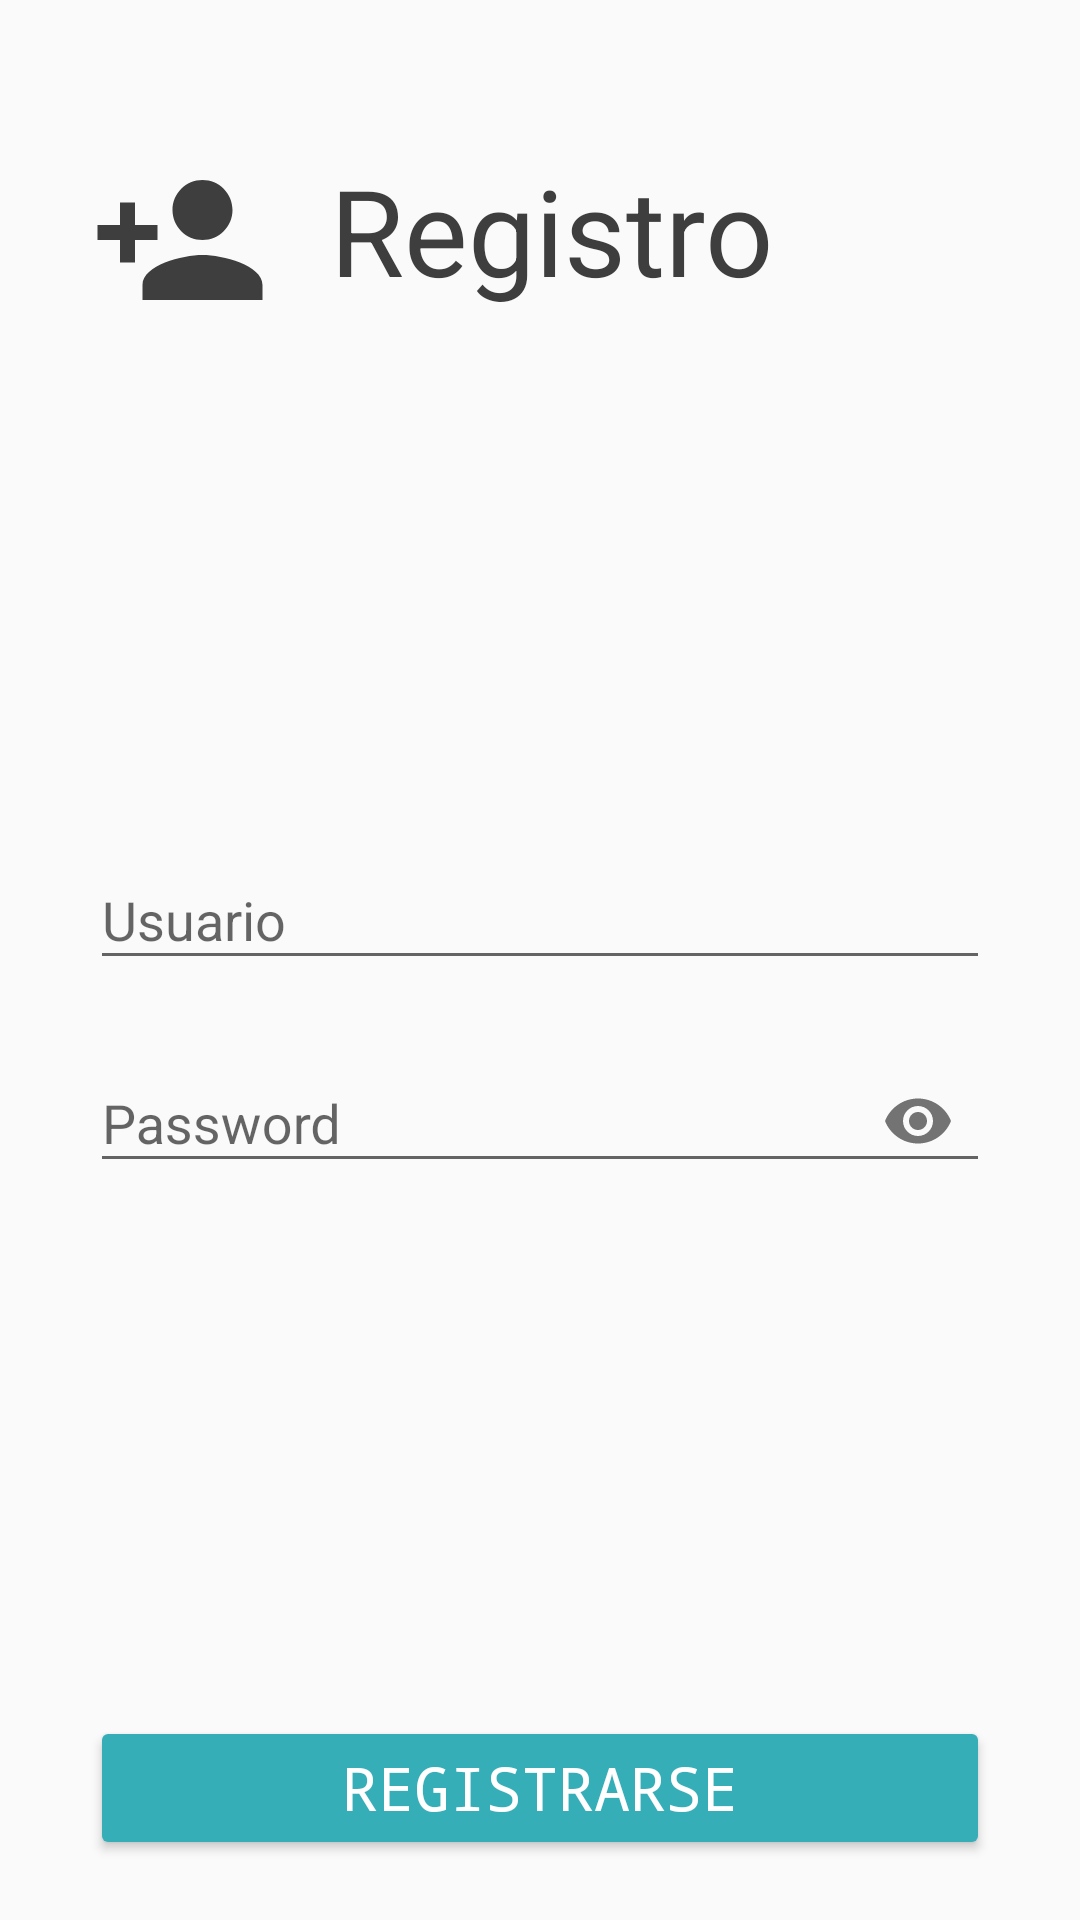

Named icons in this screenshot (1080×1920) and their centers, (x=x, y=y):
person add: (x=180, y=240)
